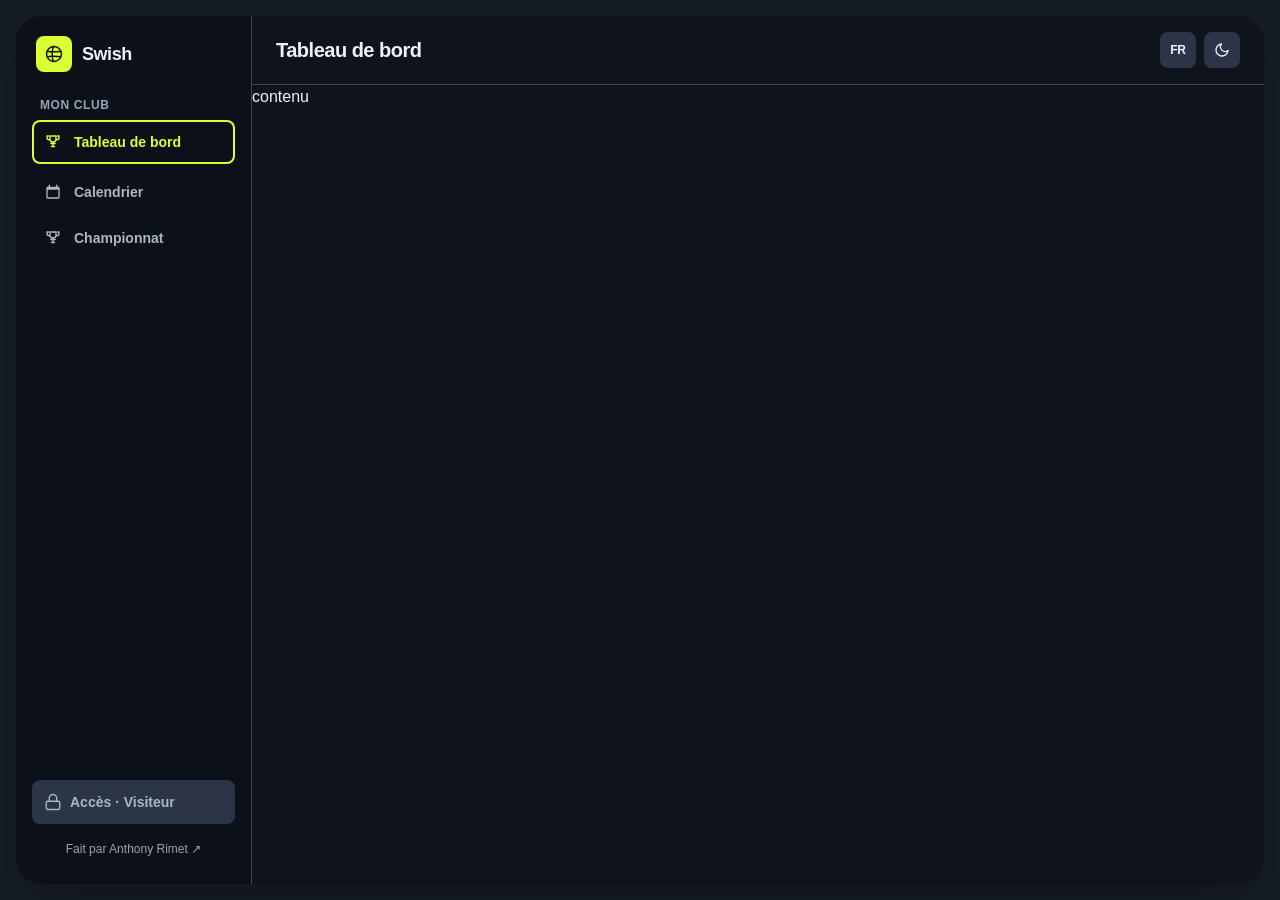
the access entry point › the player code opens the name picker without granting any write right
Click the button "Accès · Visiteur" at (134,802), box [32,780,235,824]
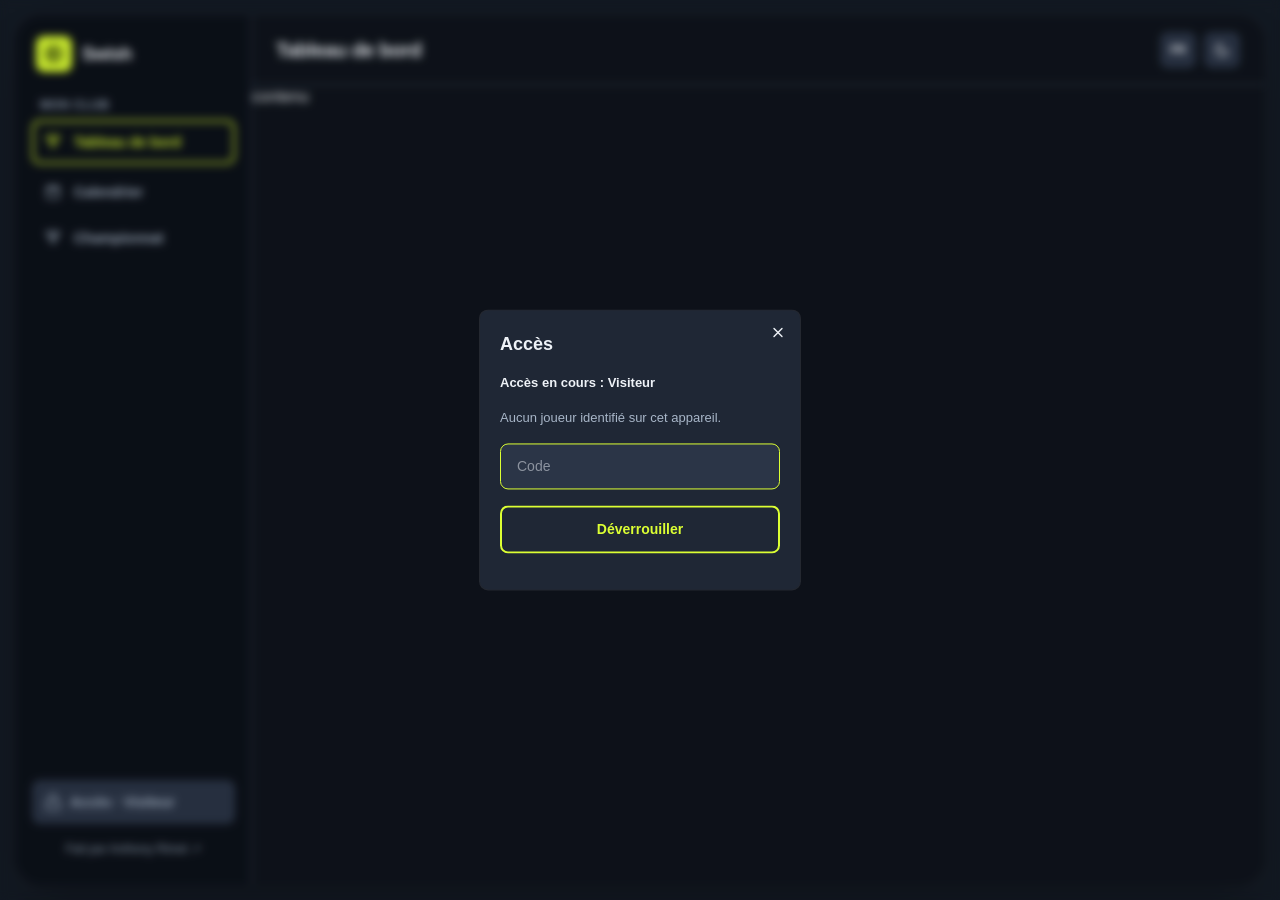
Type "joueur" into the password field named "Code d’accès" at (640,467), box [500,444,780,490]
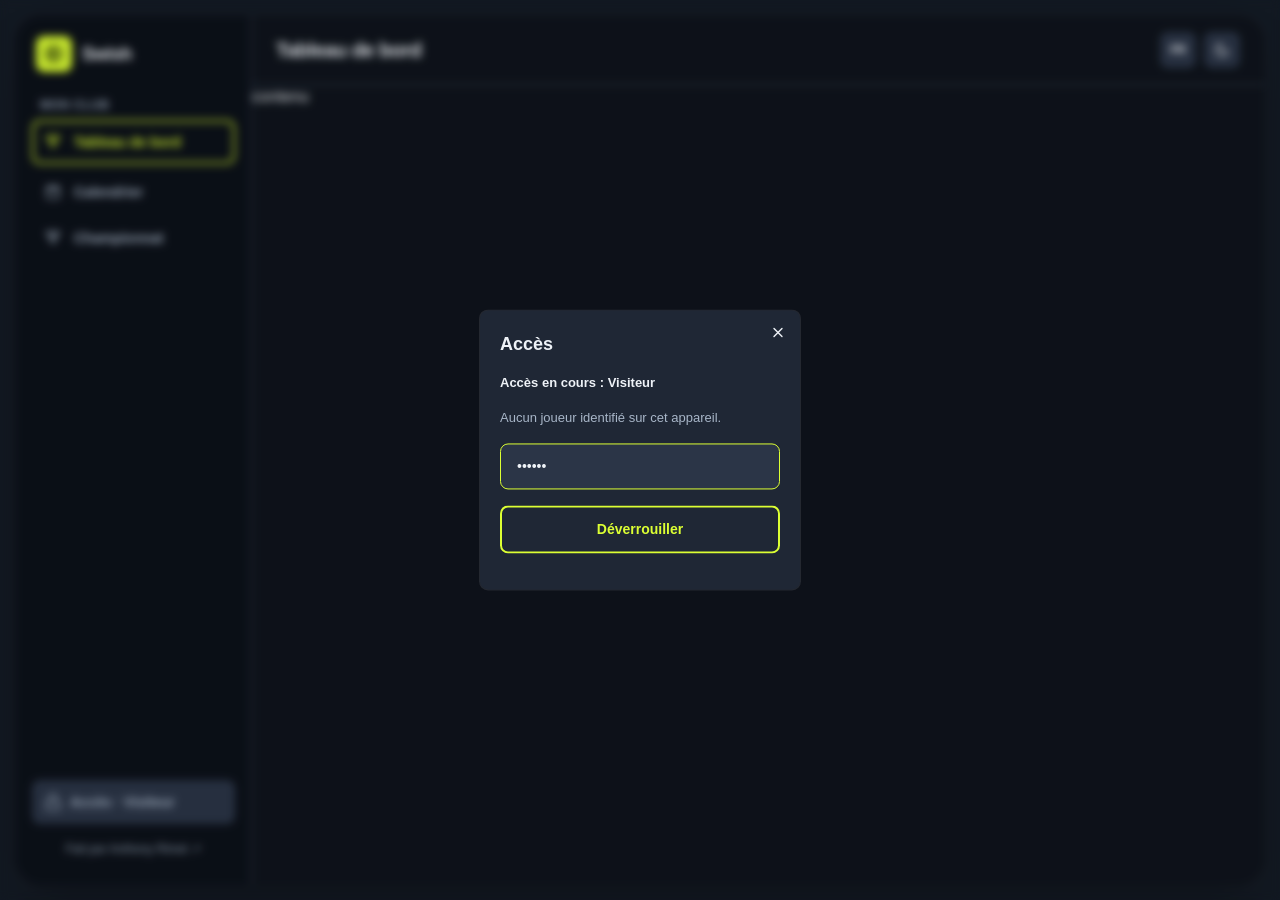
Click the button "Déverrouiller" at (640,530), box [500,506,780,554]
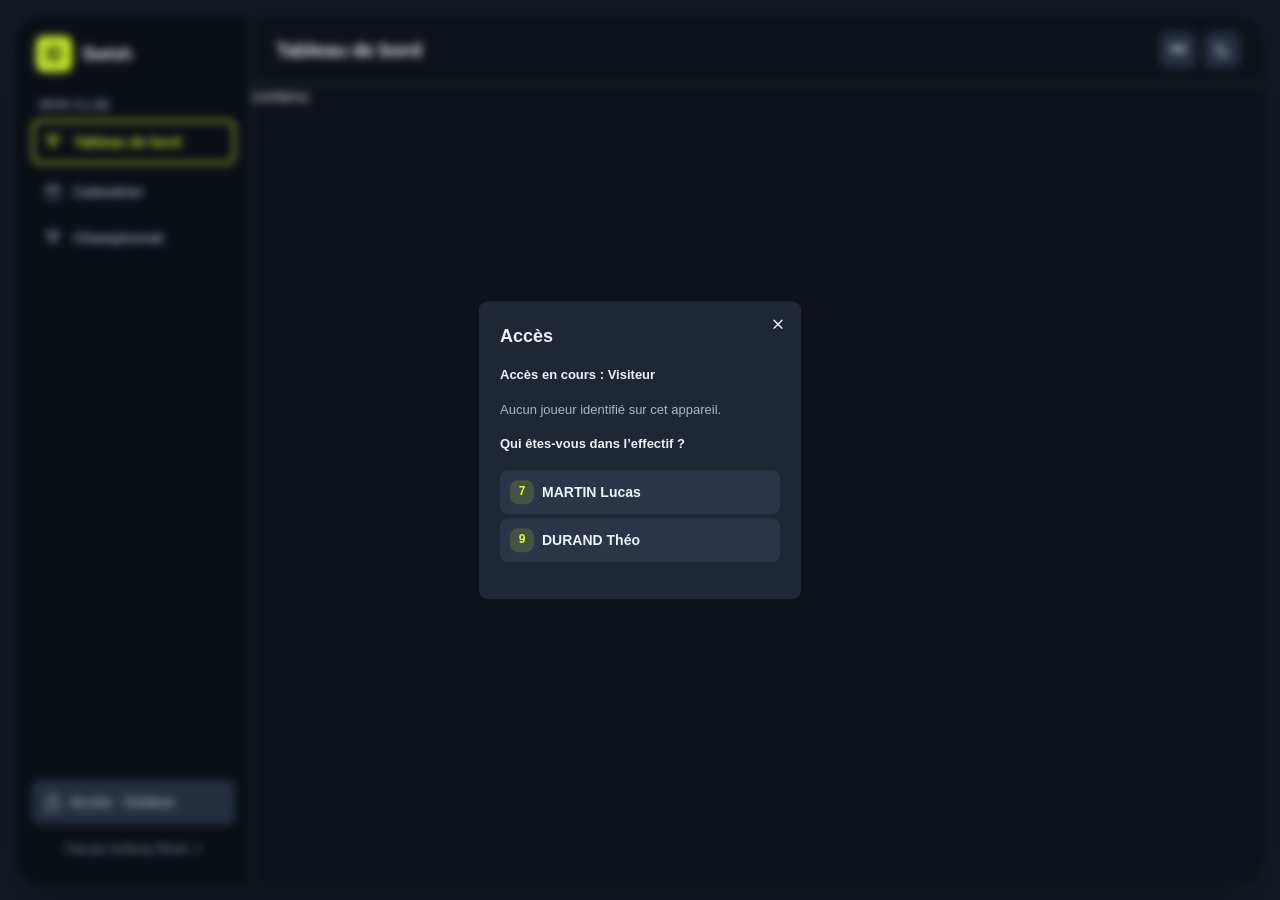
Expected: the text "Accès en cours : Visiteur" is shown, [500,367,655,382]
Expected: the button "7 MARTIN Lucas" is shown, [500,470,780,514]
